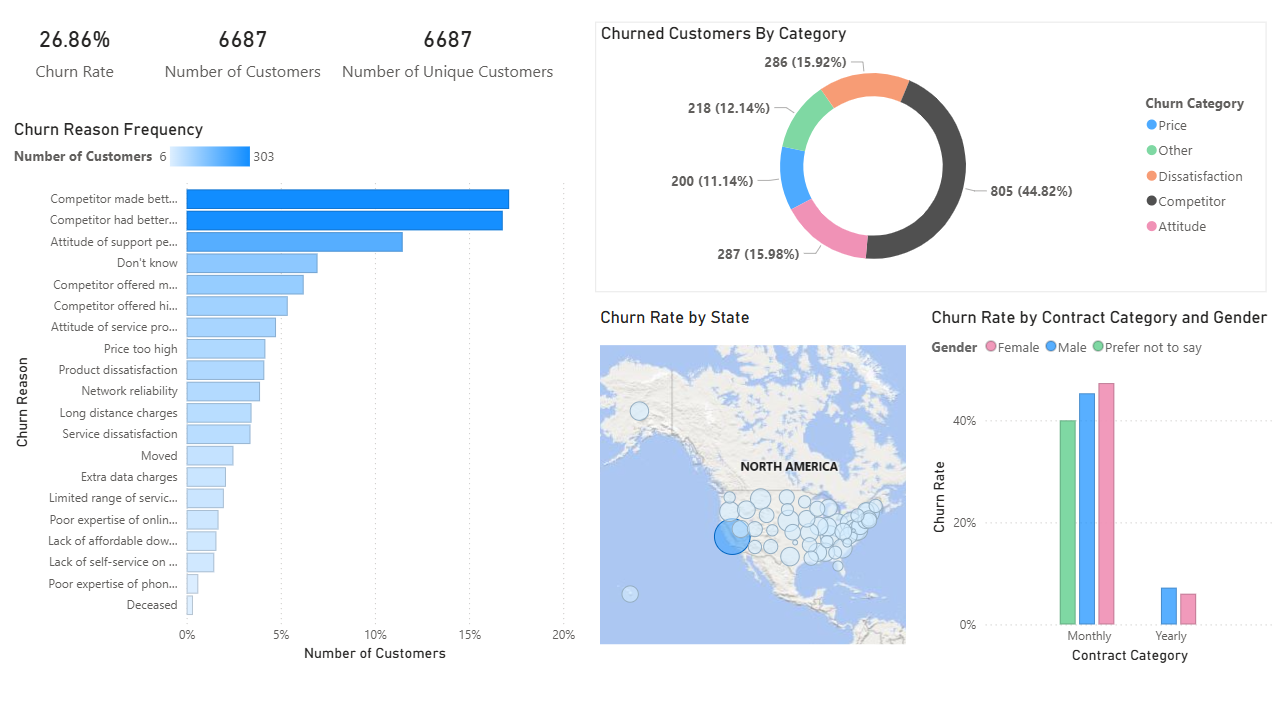

Layout of this report page (visuals, bound fields, positions):
{"tool":"powerbi","page":{"name":"extra charts 1","canvas":[1280,720],"ordinal":4},"visuals":[{"type":"card","fields":{"Values":["Databel - Data.Number of Customers"]},"box":[0,397.8,265.2,161.7],"z":0},{"type":"card","fields":{"Values":["Databel - Data.Number of Unique Customers"]},"box":[0,559.5,265.2,161.7],"z":1000},{"type":"card","fields":{"Values":["Databel - Data.Churn Rate"]},"box":[4,252,262,146],"z":2000},{"type":"barChart","title":"Number of Customers by Known Churn Reason","fields":{"Y":["Databel - Data.Number of Customers"],"Category":["Databel - Data.Churn Reason"]},"box":[295,120,816.7,240],"z":3000},{"type":"tableEx","fields":{"Values":["Databel - Data.Churn Category","Divide(Databel - Data.Number of Churned Customers, ScopedEval(Databel - Data.Number of Churned Customers, []))"]},"box":[266.7,421.7,373.3,218.3],"z":4000},{"type":"map","fields":{"Category":["Databel - Data.State"]},"box":[666,374,452,316],"z":5000}]}

Visuals, with their boxes in screenshot pixels (x1, y1, x2, y2), scaled from the page's 1280x720 canvas onto the 1278x716 screenshot:
card - Databel - Data.Number of Customers: {"x1": 0, "y1": 396, "x2": 265, "y2": 556}
card - Databel - Data.Number of Unique Customers: {"x1": 0, "y1": 556, "x2": 265, "y2": 715}
card - Databel - Data.Churn Rate: {"x1": 4, "y1": 251, "x2": 266, "y2": 396}
"Number of Customers by Known Churn Reason" barChart: {"x1": 295, "y1": 119, "x2": 1110, "y2": 358}
tableEx - Databel - Data.Churn Category x Divide(Databel - Data.Number of Churned Customers, ScopedEval(Databel - Data.Number of Churned Customers, [])): {"x1": 266, "y1": 419, "x2": 639, "y2": 636}
map - Databel - Data.State: {"x1": 665, "y1": 372, "x2": 1116, "y2": 686}
